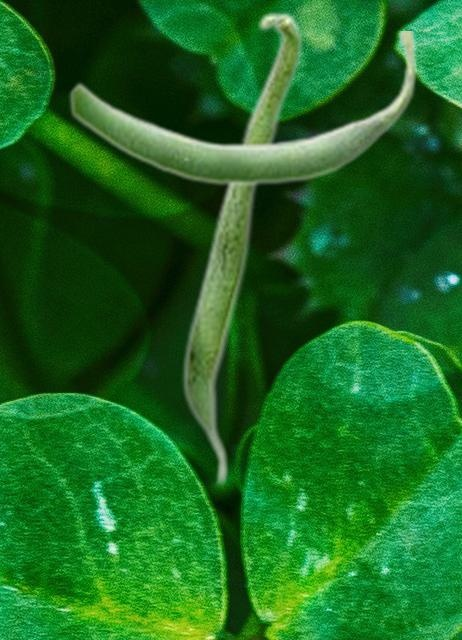french_bean: (181, 10, 303, 488), (68, 31, 417, 187)
